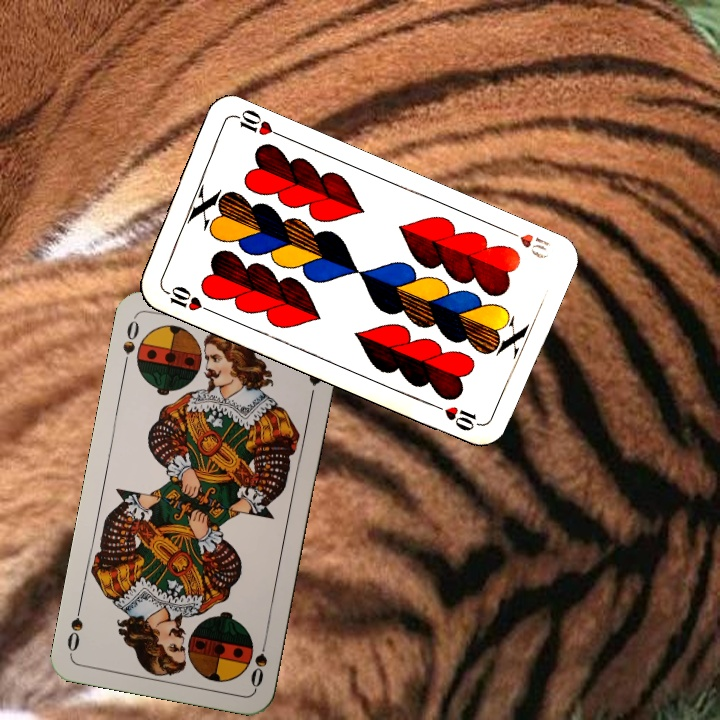H10: (499, 224, 551, 262), (158, 282, 214, 315)
SO: (246, 632, 271, 690), (118, 312, 142, 370)
